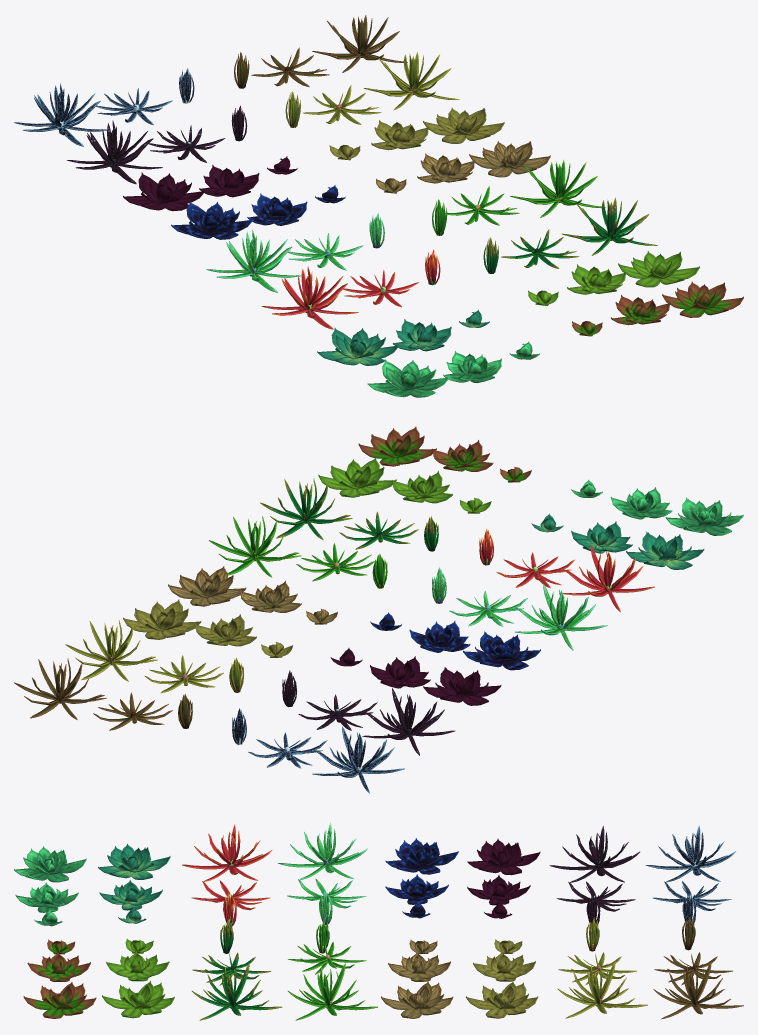
Rendered from Salad.fbx.
3 views of the same model, one above another, from view 1: azimuth 30°, elevation 25°; view 2: azimuth 150°, elevation 25°; view 3: azimuth 270°, elevation 25° (orthographic). The views are drawn at different scales.
Parts seen in each view (by area): view 1: object 36, object 37, object 31, object 42, LangeAloe_Normal_normal.001, LangeAloe_Normal_Muster.002, LangeAloe_Normal_Muster.001, LangeAloe_Normal_normal.002, object 48, object 30, object 43, object 25 (+20 smaller); view 2: object 30, object 48, object 25, object 43, LangeAloe_Normal_Muster.002, LangeAloe_Normal_Muster.001, LangeAloe_Normal_normal.002, object 36, object 42, LangeAloe_Normal_normal.001, object 37, object 31 (+20 smaller); view 3: object 25, object 36, object 31, object 43, object 48, object 30, object 42, object 37, WusteLangeAloe_Normal_Muster, LangeAloe_Normal_Muster, WusteLangeAloe_Normal_normal, LangeAloe_Normal_normal (+22 smaller).
Boxes of the visible parts, <box> form: object 36: <box>367,359,449,397</box>; object 37: <box>317,328,398,365</box>; object 31: <box>171,201,252,239</box>; object 42: <box>123,172,204,211</box>; LangeAloe_Normal_normal.001: <box>261,266,358,329</box>; LangeAloe_Normal_Muster.002: <box>14,83,106,146</box>; LangeAloe_Normal_Muster.001: <box>206,229,301,292</box>; LangeAloe_Normal_normal.002: <box>67,120,162,184</box>; object 48: <box>618,251,699,287</box>; object 30: <box>469,141,550,177</box>; object 43: <box>423,107,504,143</box>; object 25: <box>662,281,743,317</box>; object 30: <box>168,566,246,606</box>; object 48: <box>318,457,396,497</box>; object 25: <box>358,426,436,466</box>; object 43: <box>123,599,201,639</box>; LangeAloe_Normal_Muster.002: <box>312,726,404,793</box>; LangeAloe_Normal_Muster.001: <box>515,583,607,650</box>; LangeAloe_Normal_normal.002: <box>362,688,454,755</box>; object 36: <box>665,497,743,535</box>; object 42: <box>423,667,501,705</box>; LangeAloe_Normal_normal.001: <box>563,545,654,612</box>; object 37: <box>626,531,704,569</box>; object 31: <box>463,631,540,670</box>; object 25: <box>23,982,96,1018</box>; object 36: <box>14,846,86,882</box>; object 31: <box>385,838,458,874</box>; object 43: <box>466,981,538,1018</box>; object 48: <box>102,981,174,1018</box>; object 30: <box>381,981,453,1018</box>; object 42: <box>467,838,540,875</box>; object 37: <box>98,844,170,879</box>; WusteLangeAloe_Normal_Muster: <box>653,962,743,1019</box>; LangeAloe_Normal_Muster: <box>288,963,377,1020</box>; WusteLangeAloe_Normal_normal: <box>557,961,647,1018</box>; LangeAloe_Normal_normal: <box>192,963,282,1020</box>.
Size of the model in its own units: 308440 by 38196 by 536222.
